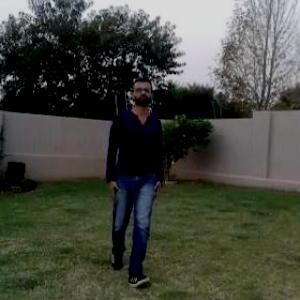follow: (105, 70, 166, 276)
